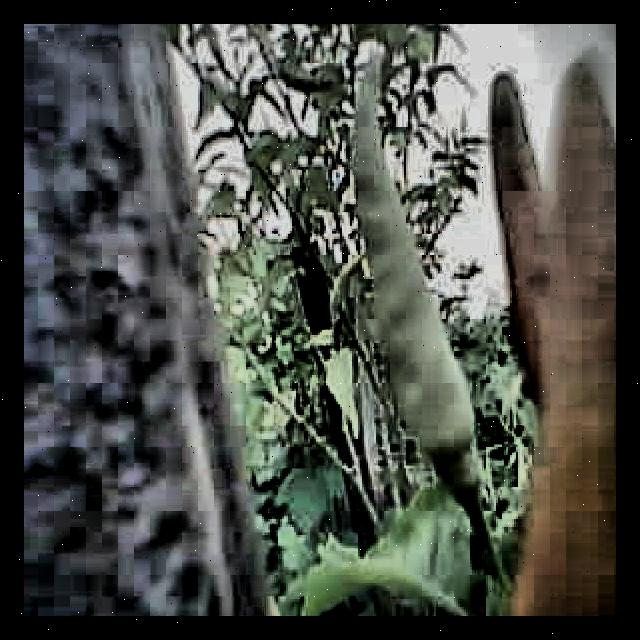Cabai: (494, 63, 616, 616)
